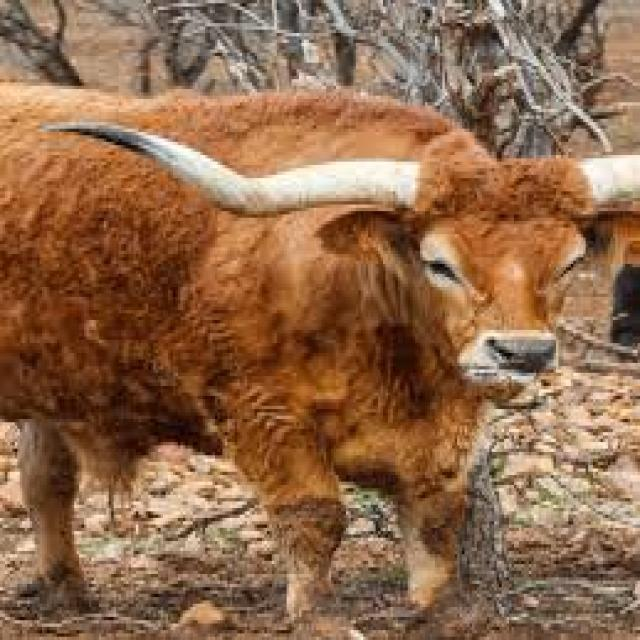Ox: (0, 61, 597, 609)
